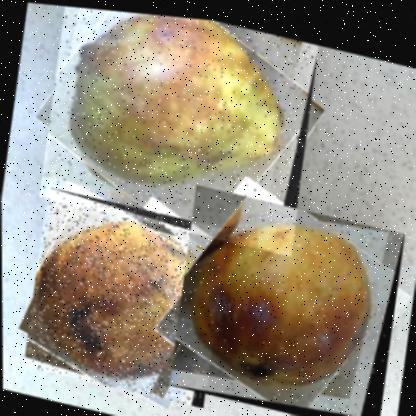guava_rotten: (38, 3, 322, 252), (166, 177, 407, 415), (22, 183, 229, 406)
